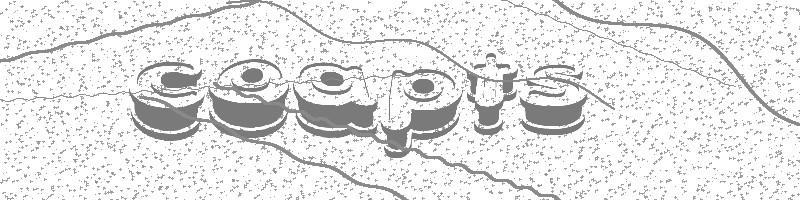a: (292, 60, 379, 139)
c: (128, 61, 205, 142)
o: (208, 56, 289, 139)
p: (381, 66, 464, 159)
s: (520, 63, 589, 136)
t: (466, 52, 519, 136)
